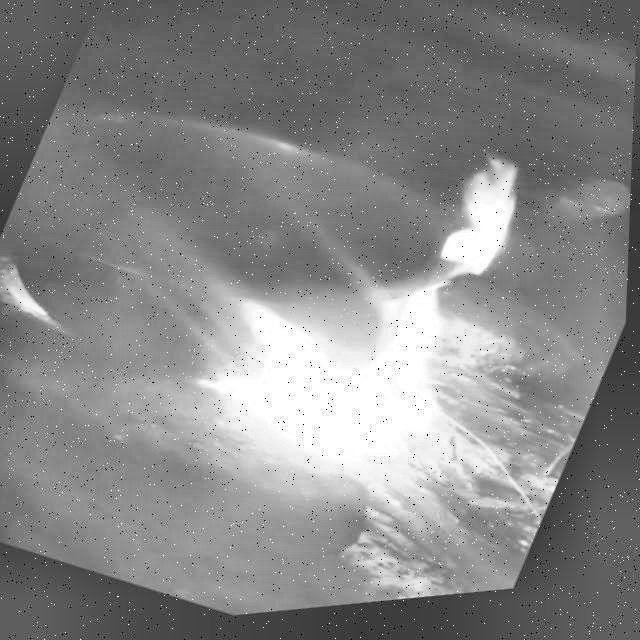Fire: (183, 87, 556, 513)
